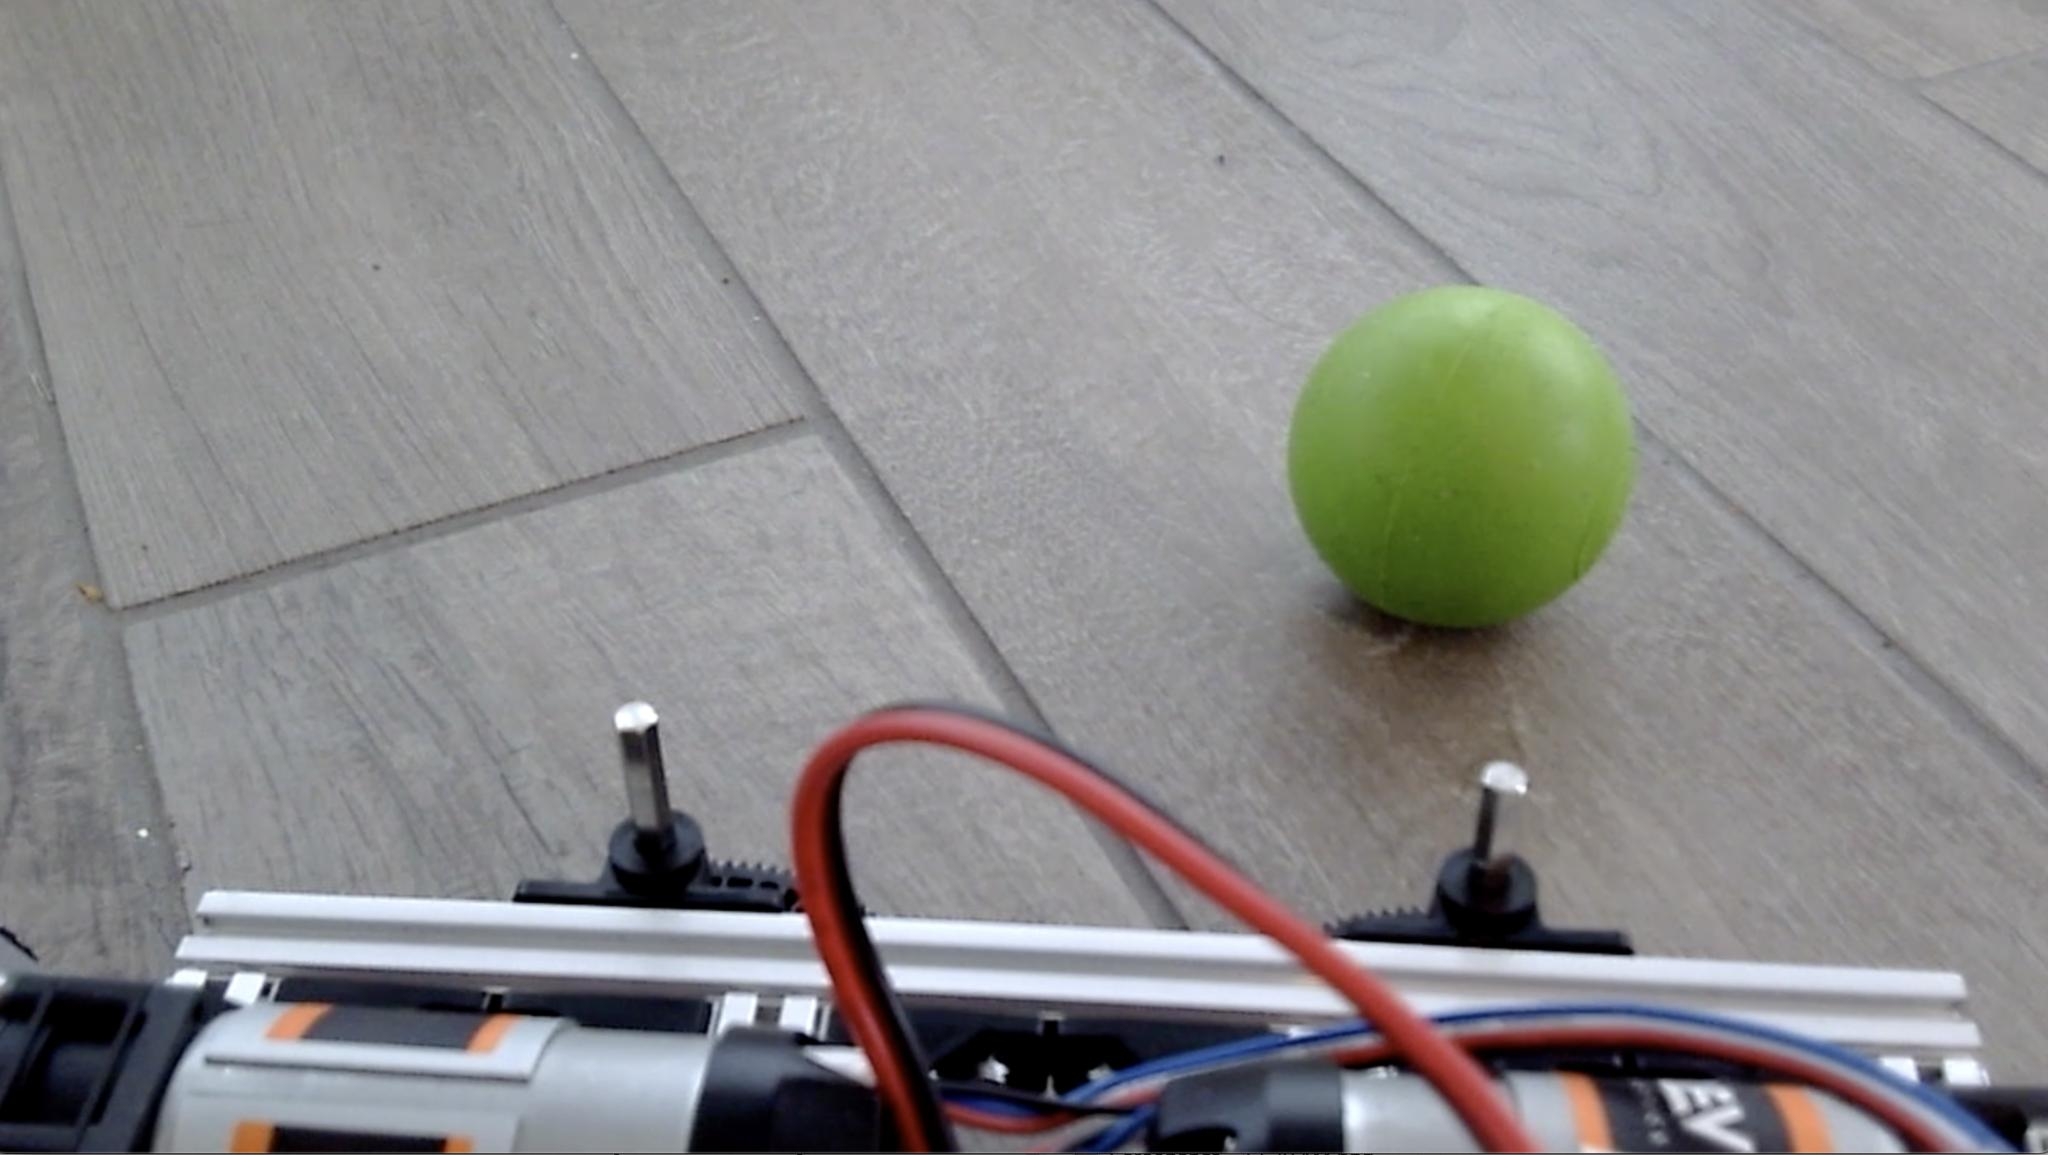greenball: (1283, 279, 1637, 632)
